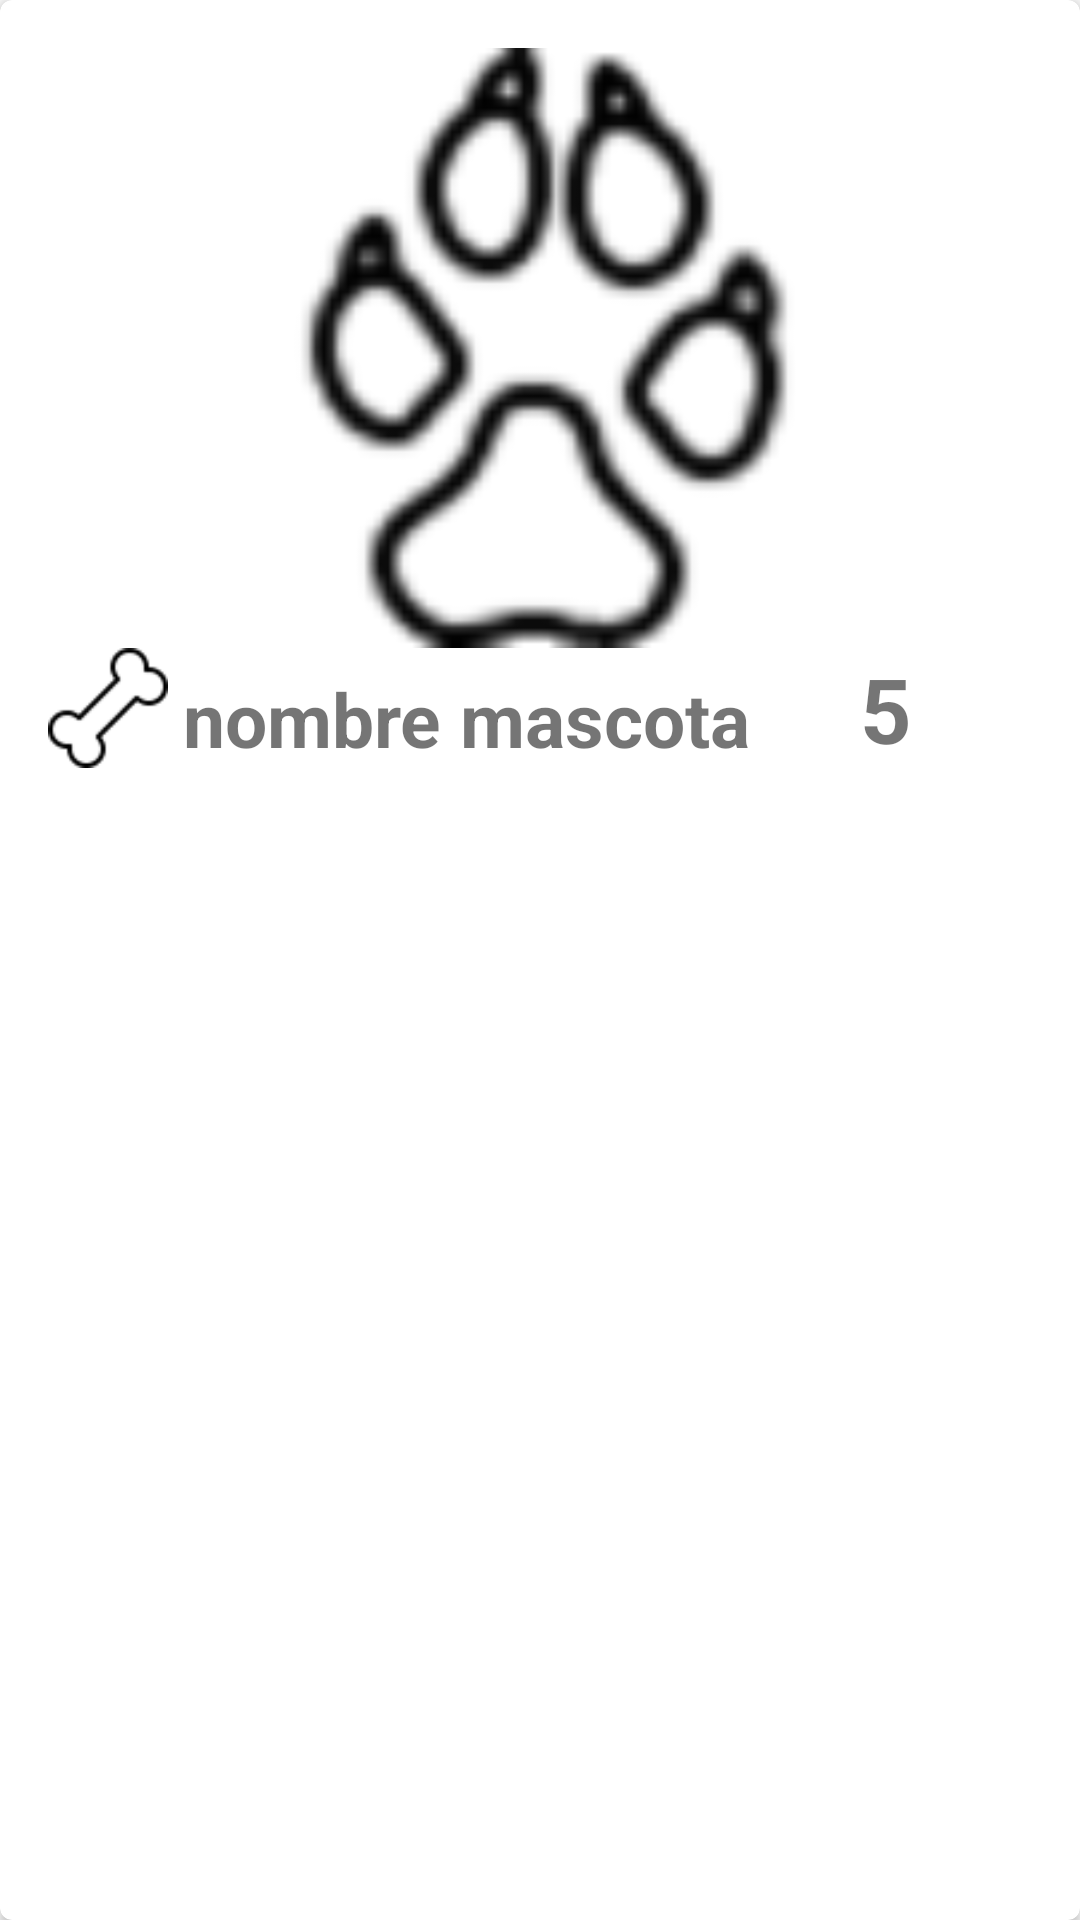

Where to tap for icons on this 1080x1920 app screen, as (x=x, y=y):
bone blanco: (x=108, y=708)
